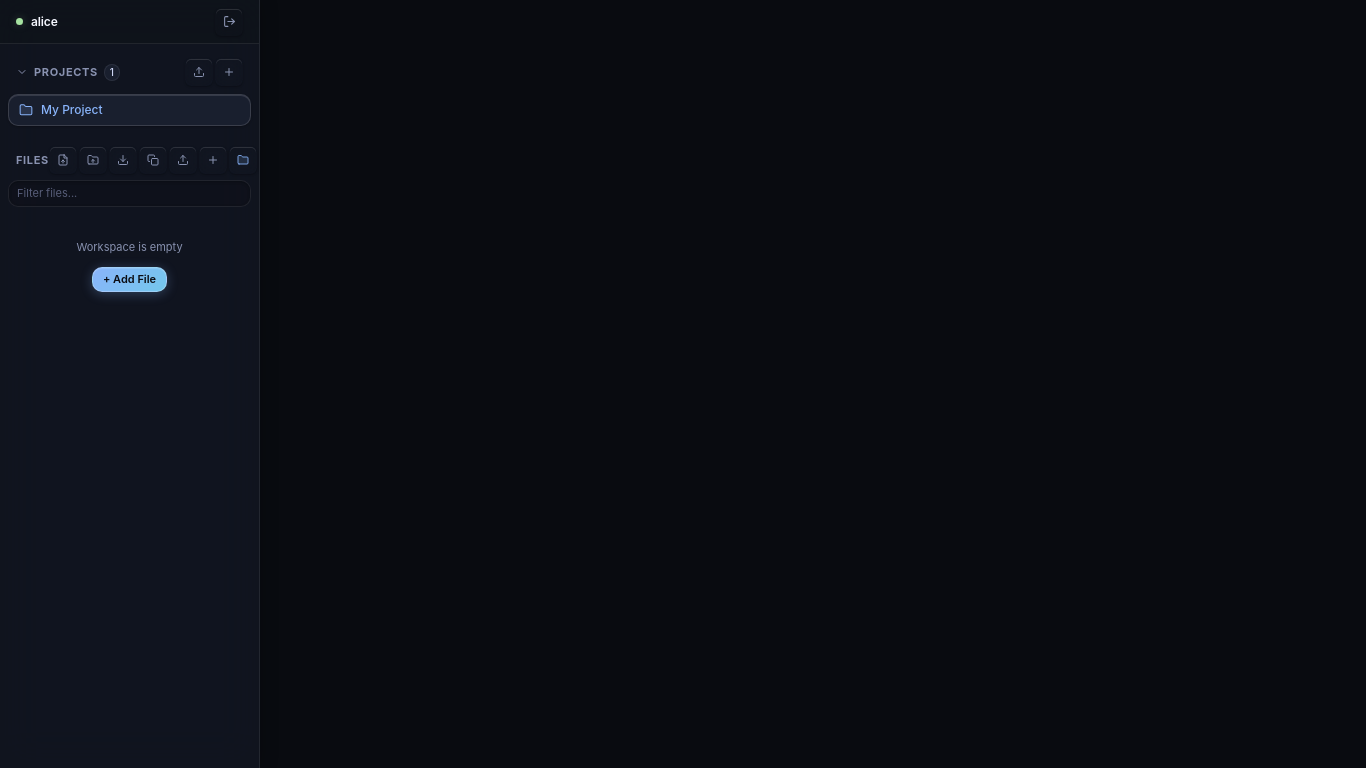
Sidebar — runnable-by-default starter templates › opens the modal and fetches the template catalog
Click the button titled "Create New Project" at (229, 72), box [215,58,243,86]
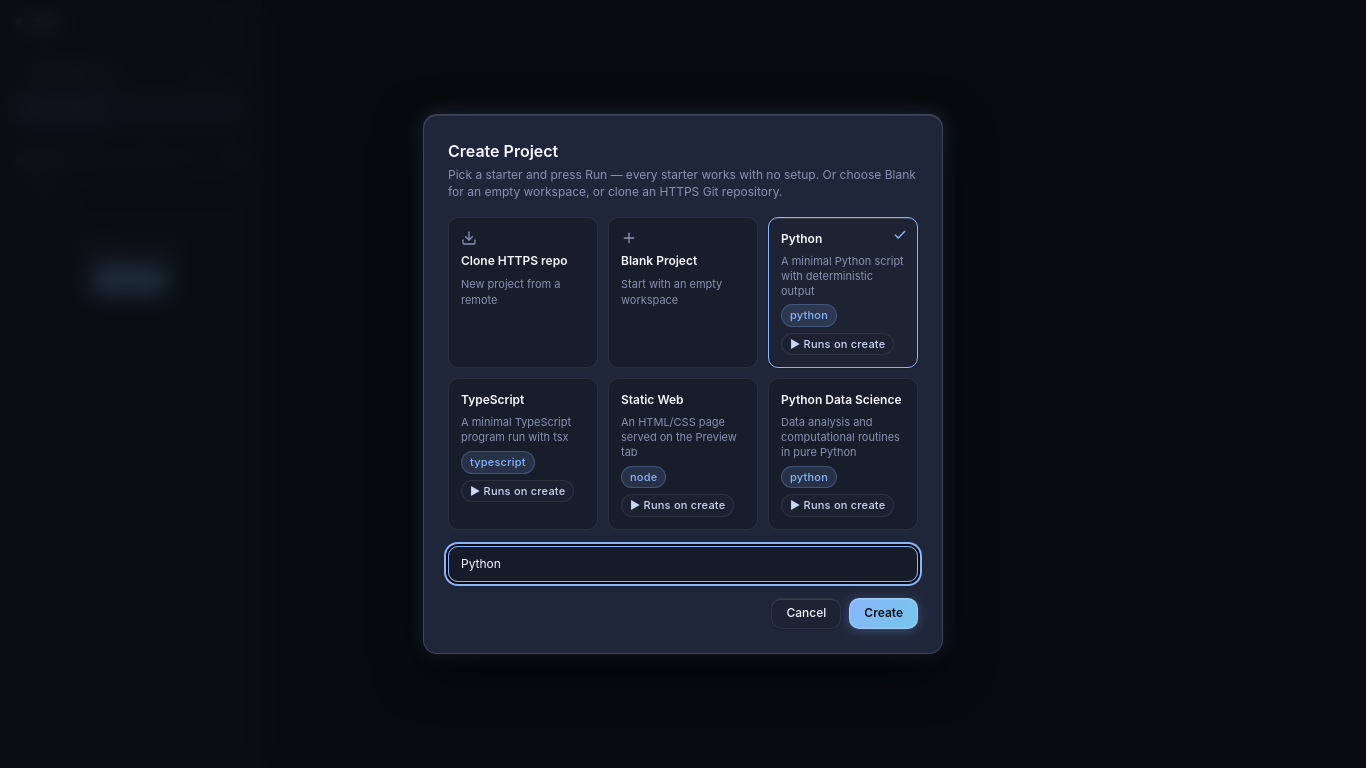
Expected: the text "Python Data Science" is shown, [781,391,902,409]
